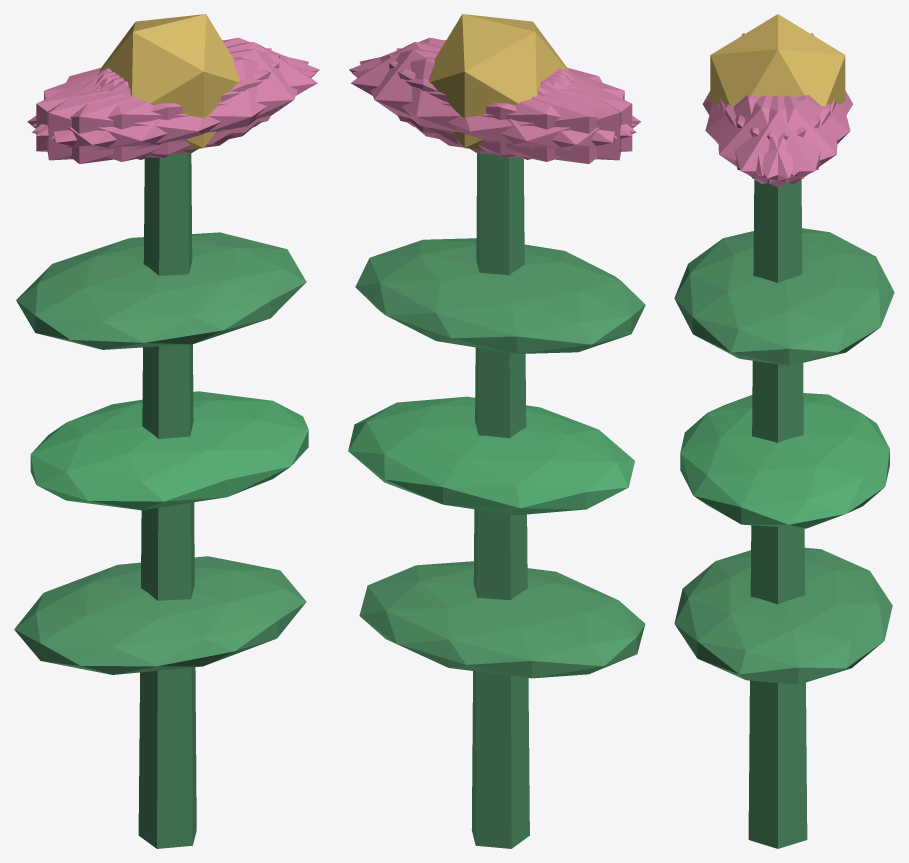
The model's file is cenostigma-eriostachys.glb.
The picture shows the model from 3 angles, left to right: view 1: azimuth 30°, elevation 25°; view 2: azimuth 150°, elevation 25°; view 3: azimuth 270°, elevation 25°; orthographic projection.
Visible parts, largest first — view 1: stem, leaf2, leaf0, leaf1, center, petal1, petal6, petal2, petal5, petal7, petal0, petal4 (+2 smaller); view 2: stem, leaf2, leaf1, leaf0, center, petal8, petal3, petal7, petal4, petal2, petal0, petal5 (+2 smaller); view 3: stem, leaf2, leaf1, leaf0, center, petal0, petal5, petal4, petal1, petal8.
Boxes of the visible parts, <box> form: stem: <box>138,153,196,848</box>; leaf2: <box>16,232,306,349</box>; leaf0: <box>14,556,306,674</box>; leaf1: <box>30,391,308,510</box>; center: <box>99,14,239,150</box>; petal1: <box>32,57,316,161</box>; petal6: <box>27,70,233,163</box>; petal2: <box>47,48,271,160</box>; petal5: <box>51,49,308,154</box>; petal7: <box>36,54,279,157</box>; petal0: <box>99,42,317,144</box>; petal4: <box>33,37,319,135</box>; stem: <box>471,153,529,848</box>; leaf2: <box>355,238,645,353</box>; leaf1: <box>348,396,634,515</box>; leaf0: <box>359,561,645,678</box>; center: <box>428,14,568,150</box>; petal8: <box>351,57,636,161</box>; petal3: <box>435,70,640,163</box>; petal7: <box>396,48,621,160</box>; petal4: <box>359,49,617,154</box>; petal2: <box>388,54,632,157</box>; petal0: <box>351,42,569,144</box>; petal5: <box>349,37,635,136</box>; stem: <box>748,179,807,848</box>; leaf2: <box>674,228,894,365</box>; leaf1: <box>680,393,889,528</box>; leaf0: <box>674,547,892,684</box>; center: <box>710,14,845,106</box>; petal0: <box>720,95,835,187</box>; petal5: <box>718,95,830,183</box>; petal4: <box>725,95,837,183</box>; petal1: <box>705,95,820,175</box>; petal8: <box>735,95,850,175</box>.
Bounding box in the file's own units: 0.1452 × 0.4024 × 0.0999.
